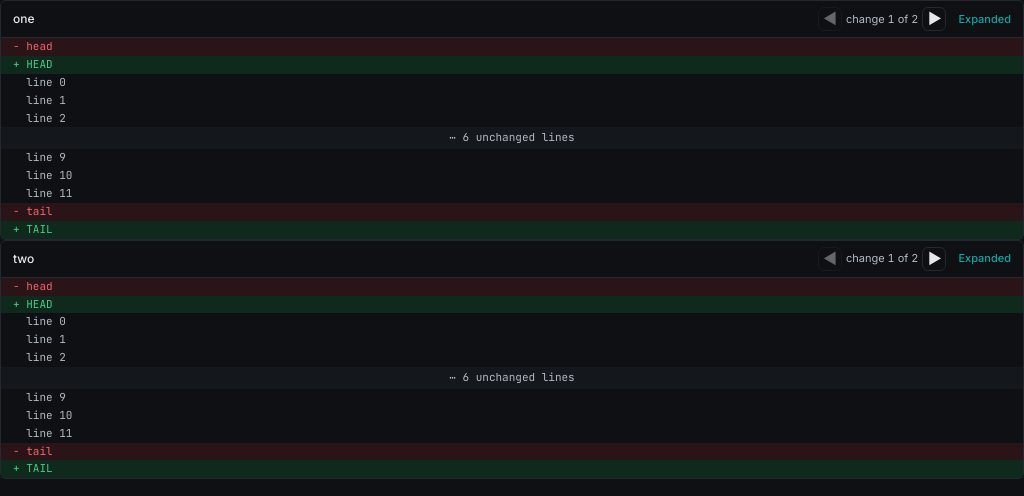
Test: DiffView › state is per instance: two DiffViews navigate independently
Click the button named "Next change" at (934, 19), box x1=922 y1=7 x2=946 y2=31
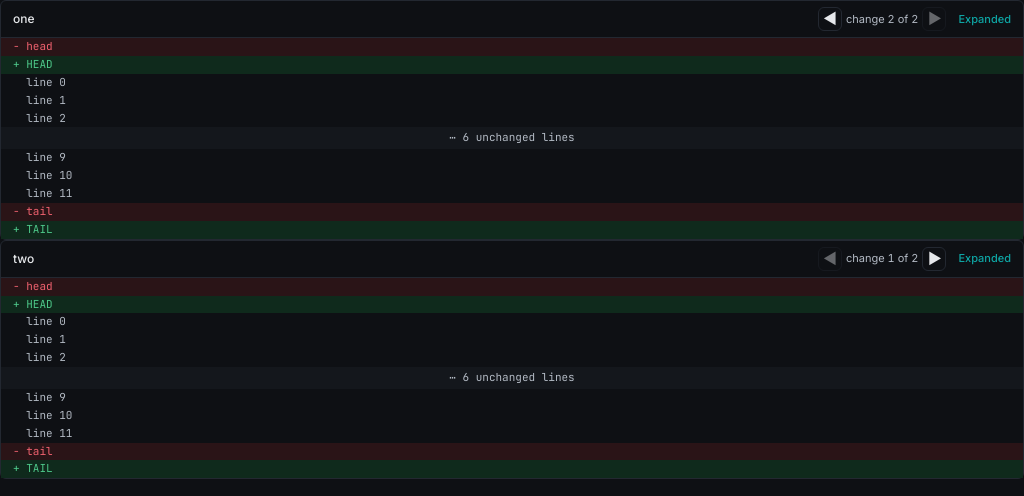
expect the text with test id "diff-hunk-counter" reads "change 1 of 2": met, box x1=846 y1=250 x2=918 y2=267
expect the text with test id "diff-hunk-counter" reads "change 2 of 2": met, box x1=846 y1=11 x2=918 y2=27
